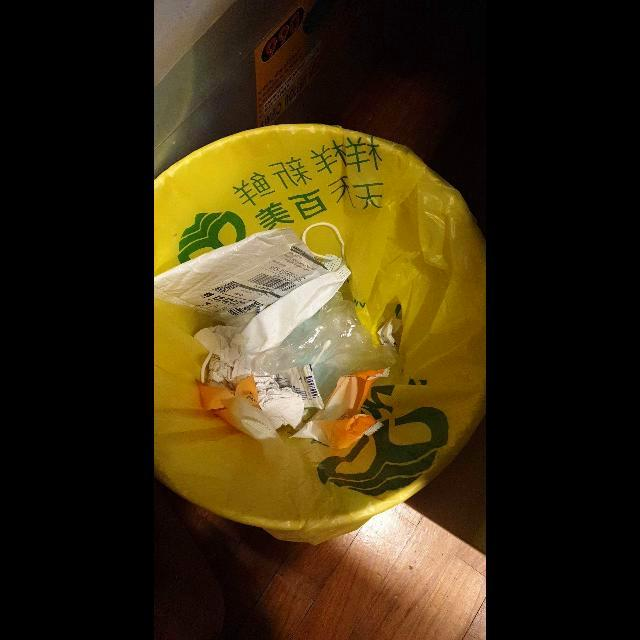paper: (254, 377, 310, 431)
plastic_bag: (247, 292, 396, 401)
plastic_sachet: (289, 367, 390, 457), (199, 377, 280, 441)
